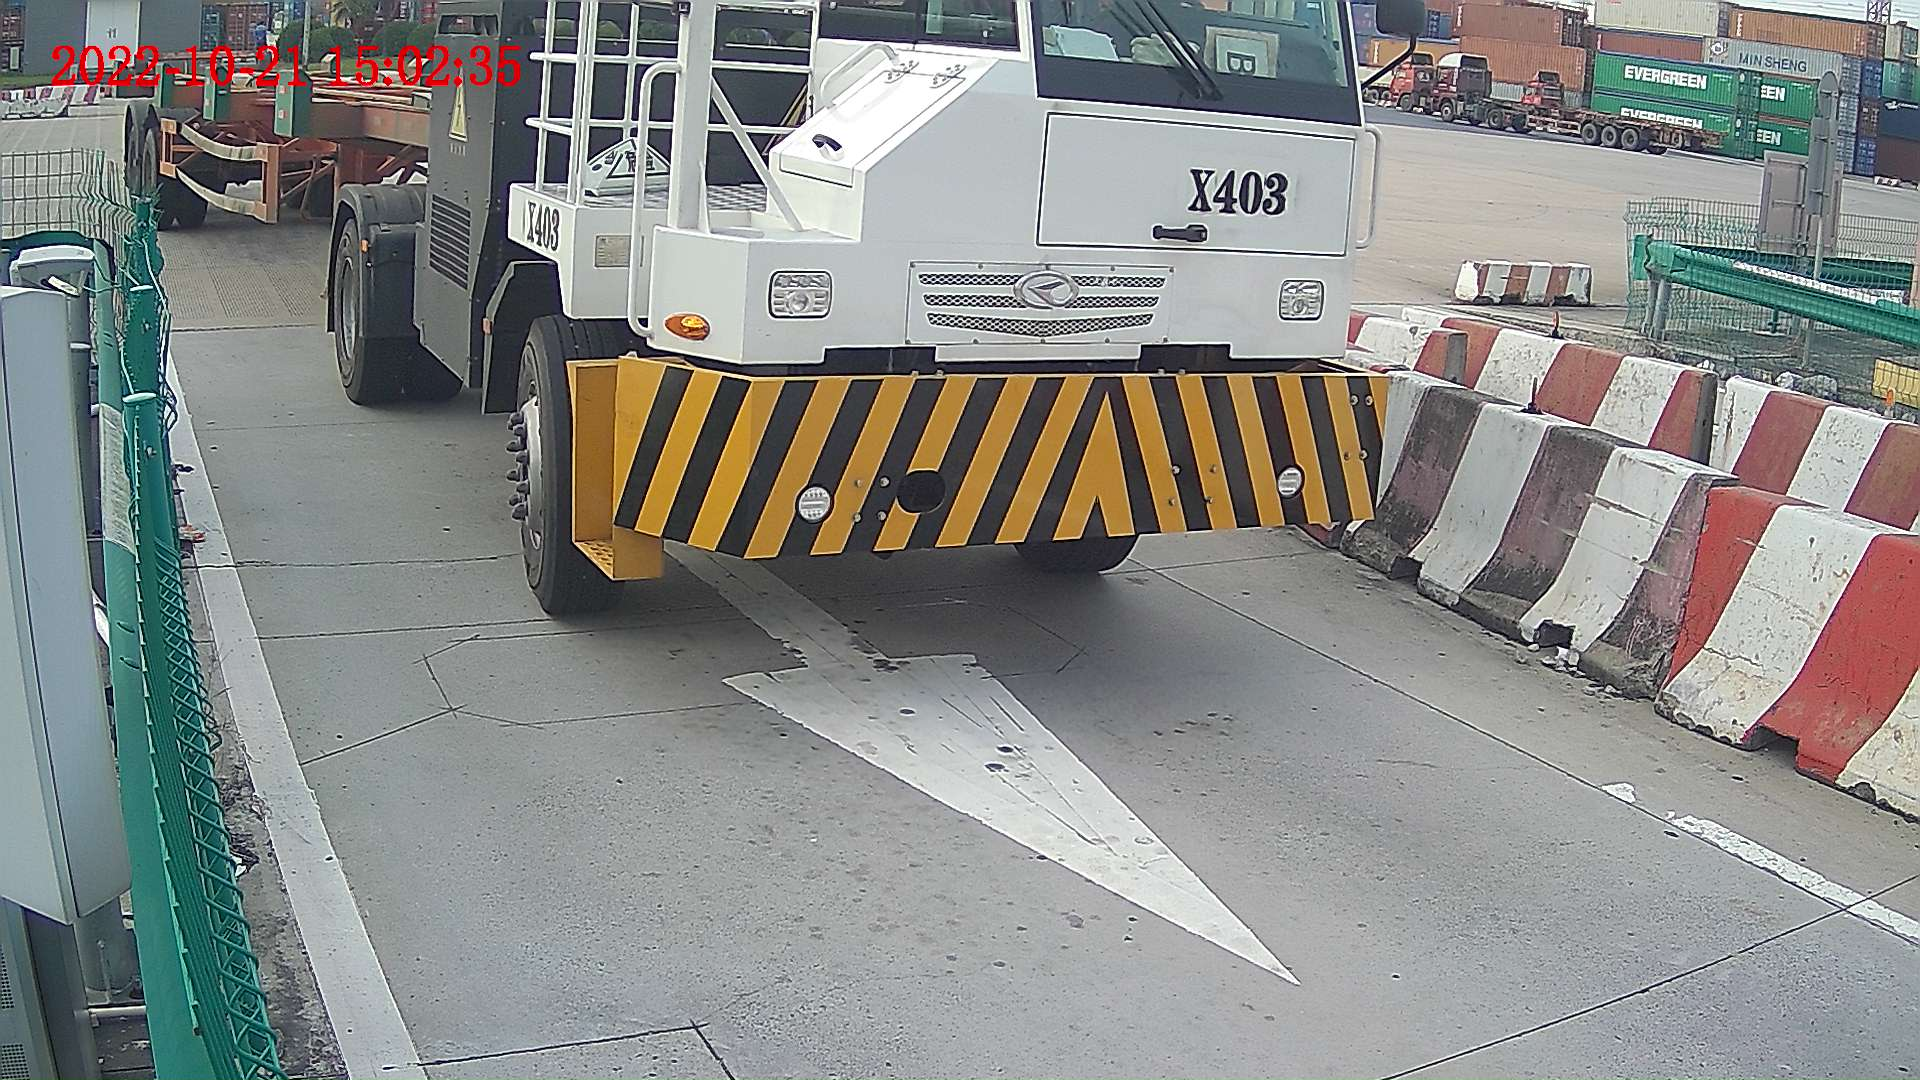head: (515, 1, 1381, 622)
